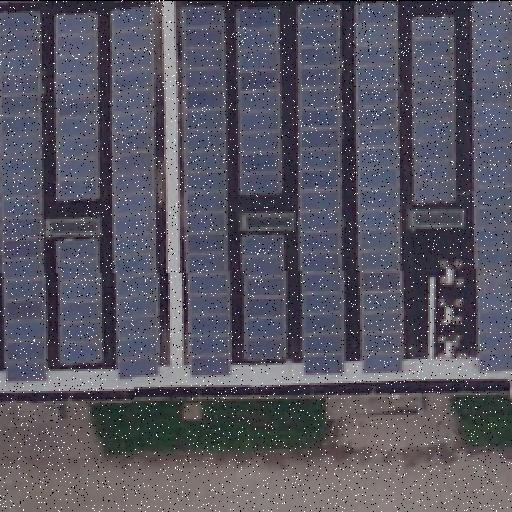solar-panel: (108, 6, 160, 378), (354, 2, 402, 374), (182, 7, 230, 377), (1, 13, 47, 379), (300, 6, 344, 374), (472, 0, 512, 372), (56, 13, 100, 203), (412, 16, 456, 204), (239, 11, 281, 197), (56, 237, 104, 363), (242, 235, 286, 357), (0, 0, 40, 4)
